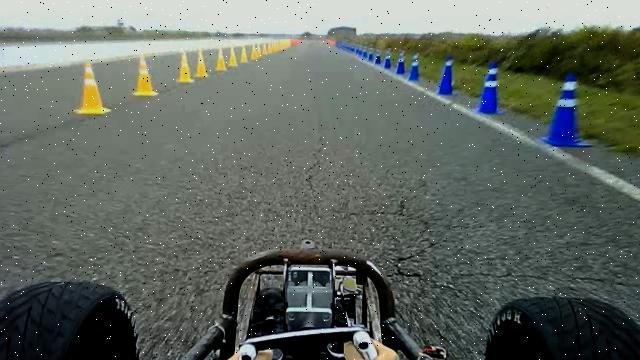blue cone: (541, 71, 593, 148), (478, 60, 501, 114), (437, 55, 455, 95), (408, 52, 420, 80), (396, 49, 406, 74), (384, 48, 392, 70), (375, 49, 382, 66)
yellow cone: (72, 62, 111, 115), (132, 56, 159, 96), (177, 50, 194, 83), (195, 47, 209, 78), (215, 48, 228, 71), (228, 46, 238, 67), (251, 44, 260, 60), (240, 46, 248, 63), (262, 42, 270, 56), (271, 40, 279, 53)
